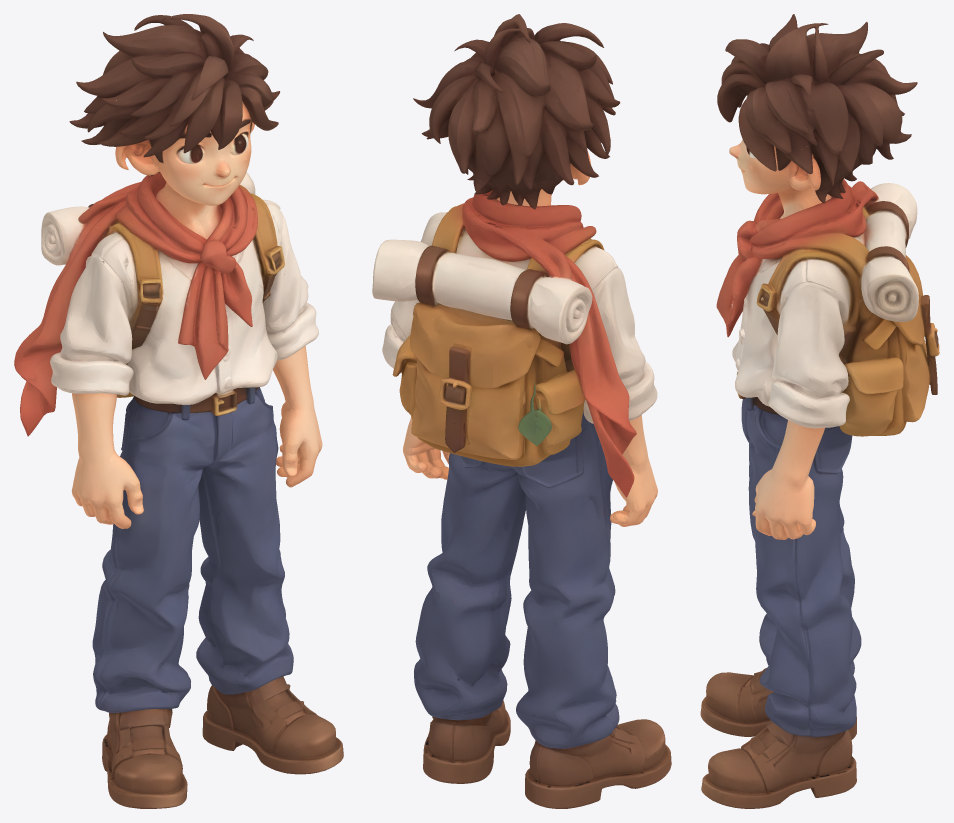
Rendered from human-avatar.glb.
3 views of the same model, side by side, from view 1: azimuth 30°, elevation 25°; view 2: azimuth 150°, elevation 25°; view 3: azimuth 270°, elevation 25° (orthographic). The views are drawn at different scales.
Parts seen in each view (by area): view 1: model; view 2: model; view 3: model.
Boxes of the visible parts, x1,y1,x2,y2 form: model: (14, 14, 343, 808); model: (372, 14, 671, 808); model: (700, 14, 939, 808).
Bounding box in the file's own units: 0.7199 × 1.9 × 0.5616.
Materials: 1 (1 with a texture image).
